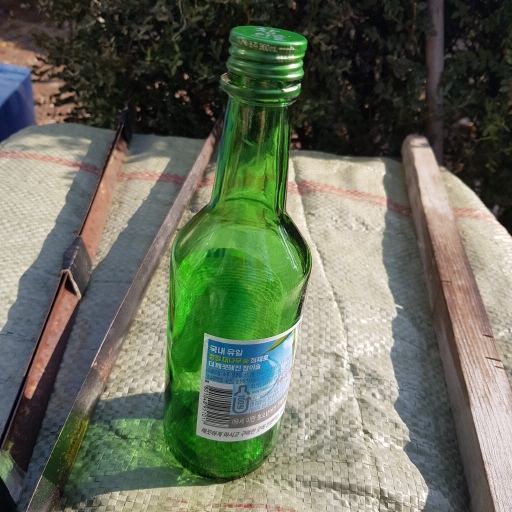Glass_0: (169, 23, 315, 479)
